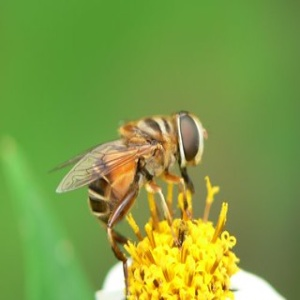bee: (45, 110, 214, 268)
